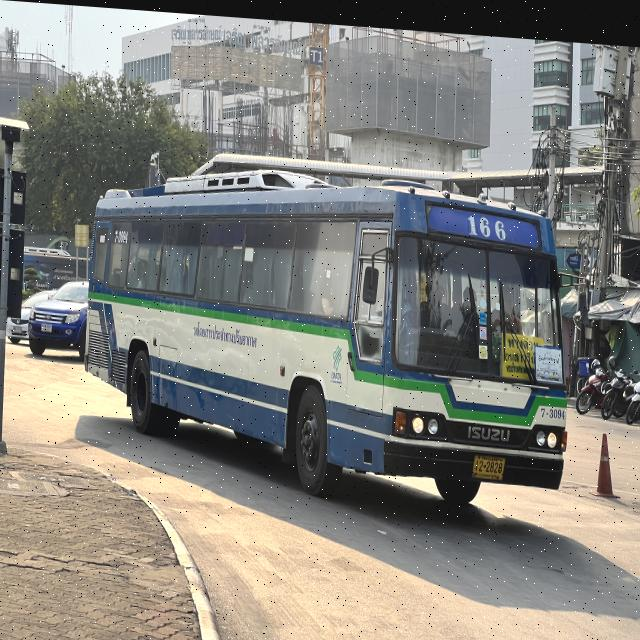BMTA-bus: (82, 161, 570, 509)
Bus-Line-Number: (463, 200, 509, 239)
Destination-Sign-Normal-Expressway: (499, 322, 548, 372)
